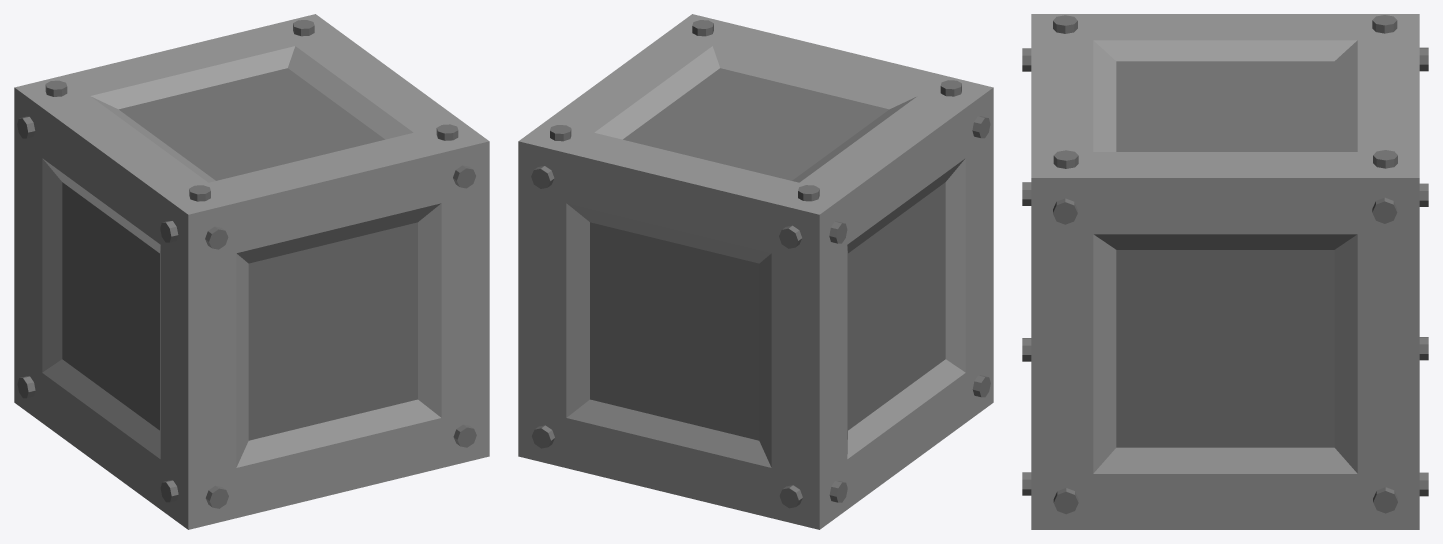
Rendered from block.obj.
The picture shows the model from 3 angles, left to right: view 1: azimuth 30°, elevation 25°; view 2: azimuth 150°, elevation 25°; view 3: azimuth 270°, elevation 25°; orthographic projection. The views are drawn at different scales.
Visible parts, largest first — view 1: Block_Metal_Cube.522; view 2: Block_Metal_Cube.522; view 3: Block_Metal_Cube.522.
Boxes of the visible parts, box(x1,y1,x2,y2) form: Block_Metal_Cube.522: box(14, 14, 489, 529); Block_Metal_Cube.522: box(518, 14, 993, 529); Block_Metal_Cube.522: box(1022, 14, 1428, 529).
Size of the model in its own units: 1.05 by 1.05 by 1.05.
